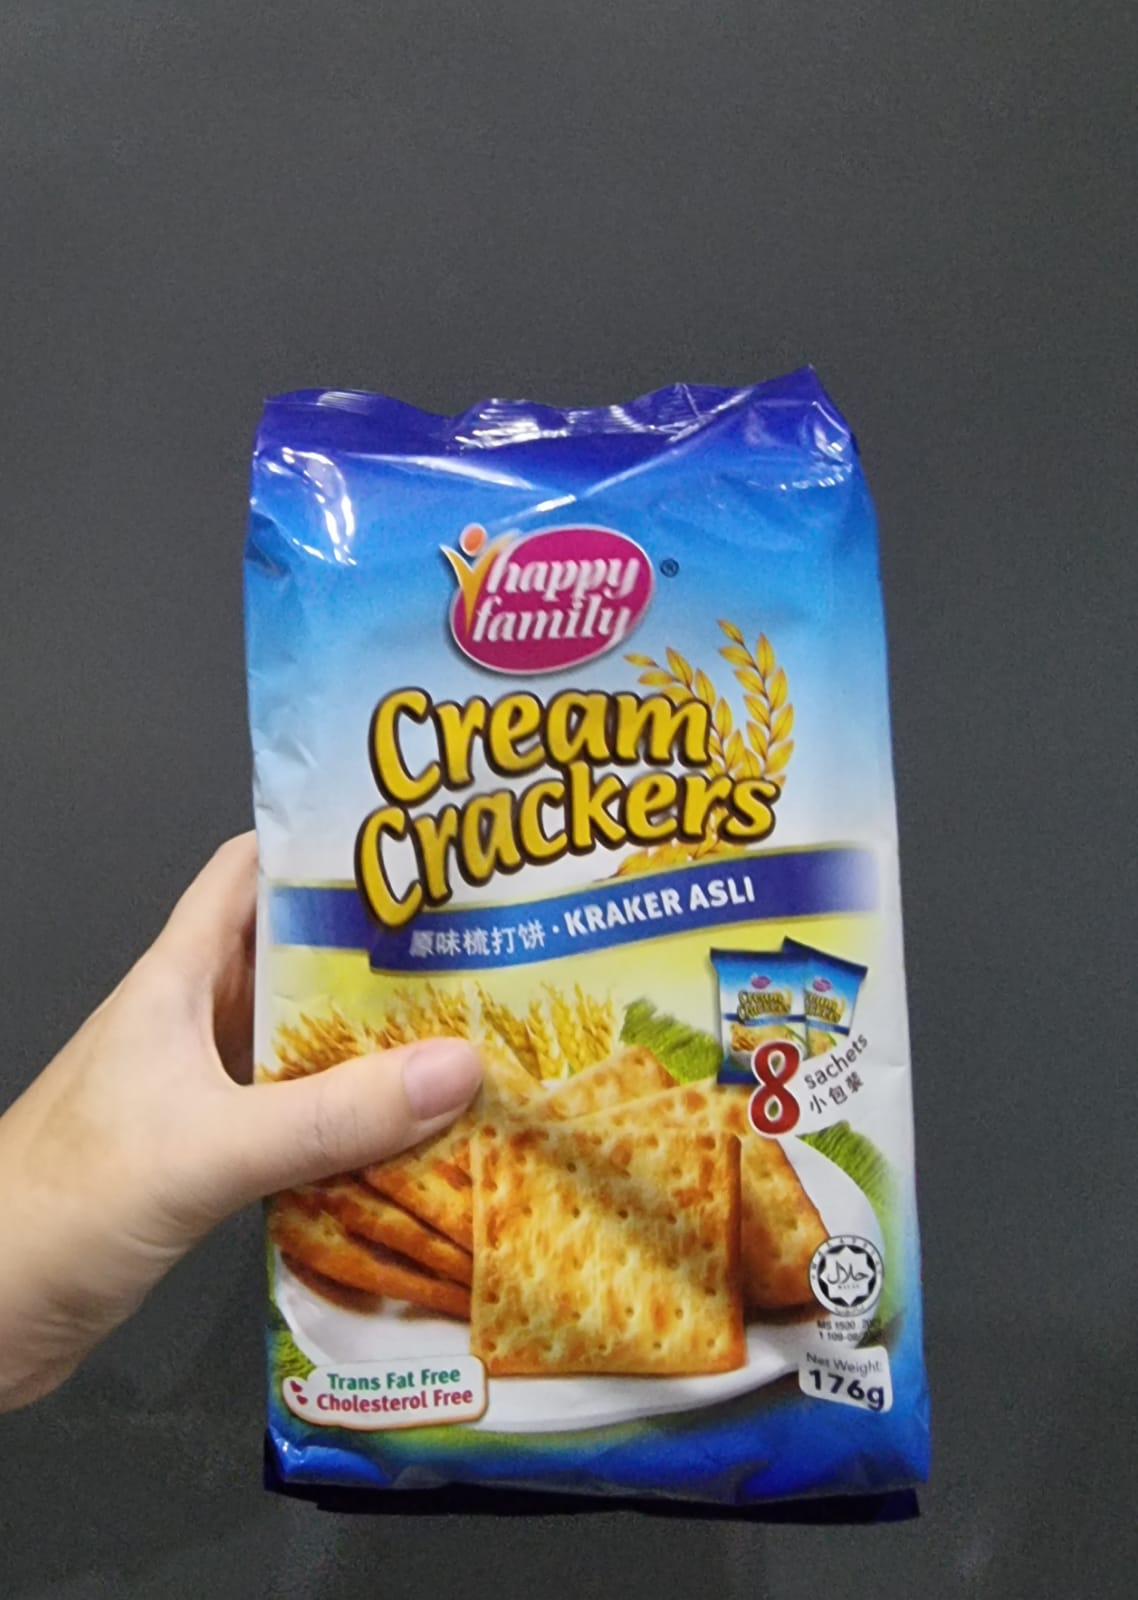Halal: (807, 1233, 882, 1313)
